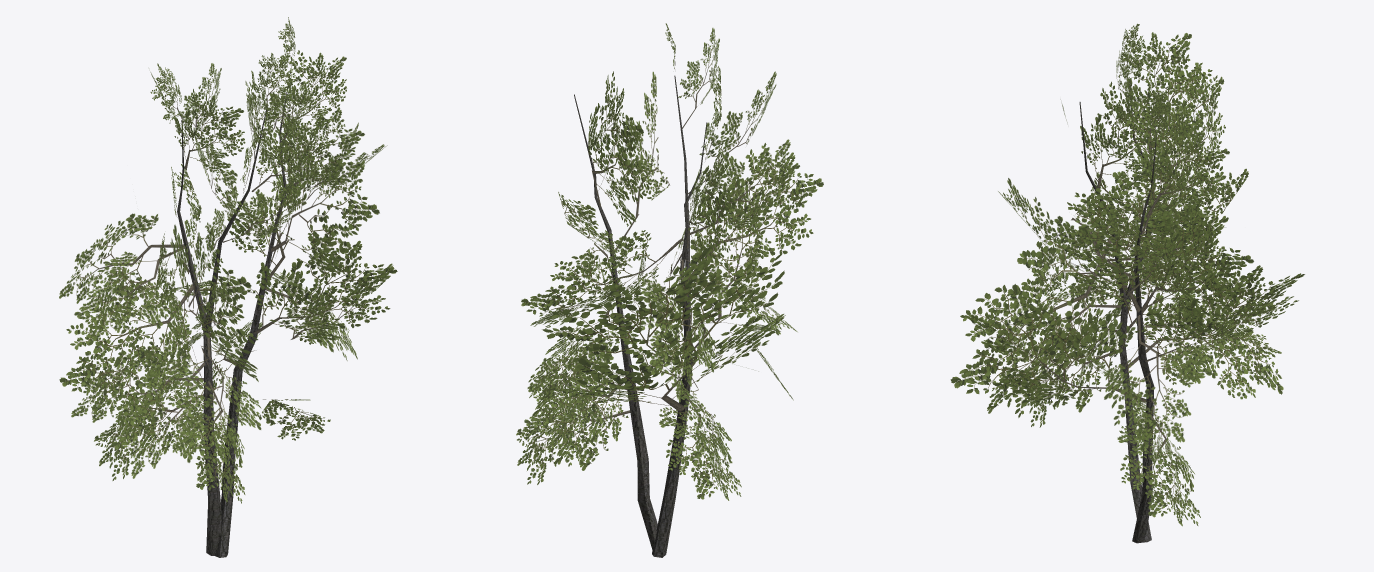
Rendered from tree-06.glb.
The picture shows the model from 3 angles, left to right: view 1: azimuth 30°, elevation 25°; view 2: azimuth 150°, elevation 25°; view 3: azimuth 270°, elevation 25°; orthographic projection. The views are drawn at different scales.
Parts seen in each view (by area): view 1: Tree-02-2; view 2: Tree-02-2; view 3: Tree-02-2.
Part boxes in pixels (box(x1,y1,x2,y2)): Tree-02-2: box(59, 17, 397, 557); Tree-02-2: box(516, 23, 823, 557); Tree-02-2: box(950, 23, 1304, 543).
Bounding box in the file's own units: 5.74 × 7.99 × 6.61.
3 materials, 3 textured.
